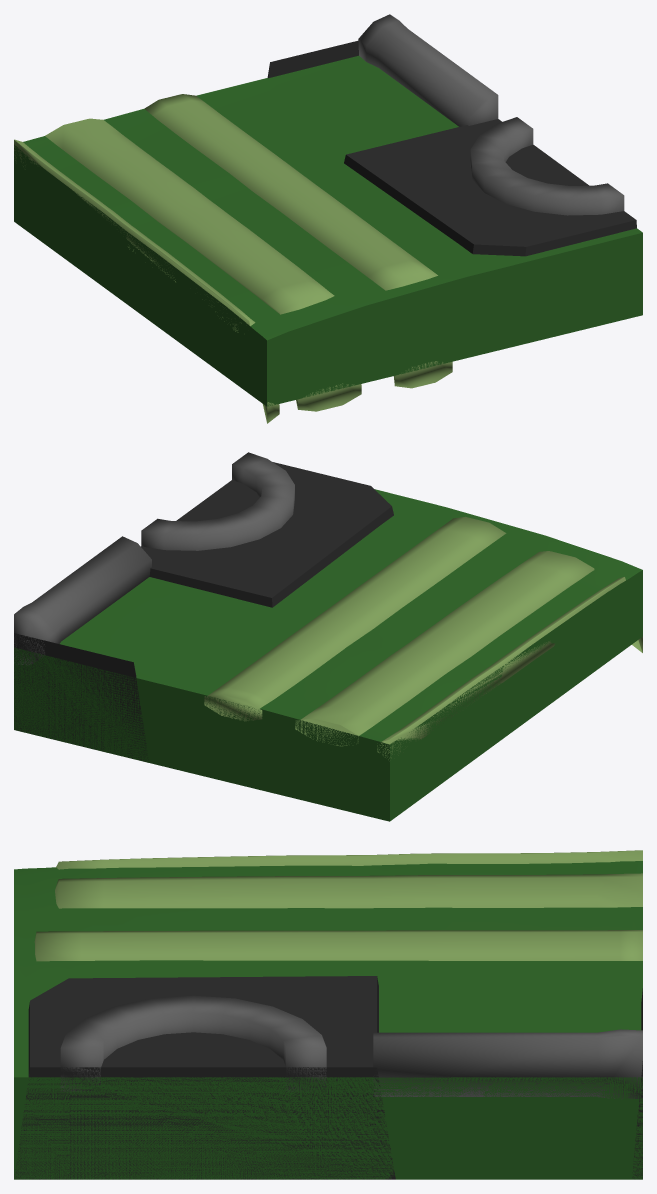
File: newshj-231.glb
3 views of the same model, one above another, from view 1: azimuth 30°, elevation 25°; view 2: azimuth 150°, elevation 25°; view 3: azimuth 270°, elevation 25° (orthographic). The views are drawn at different scales.
Parts seen in each view (by area): view 1: newshj-231; view 2: newshj-231; view 3: newshj-231.
Part boxes in pixels (box(x1,y1,x2,y2)): newshj-231: box(14, 14, 642, 423); newshj-231: box(14, 452, 642, 821); newshj-231: box(14, 850, 642, 1179).
Size of the model in its own units: 2 by 0.677 by 2.33.
